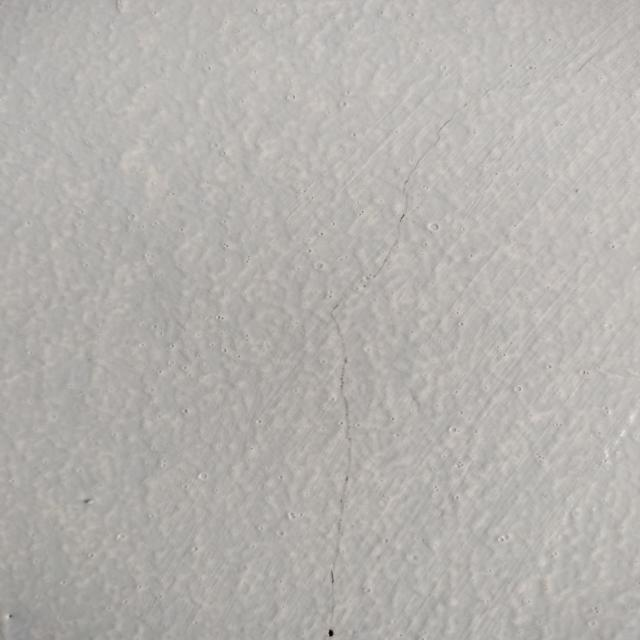Crack: (314, 126, 446, 640)
